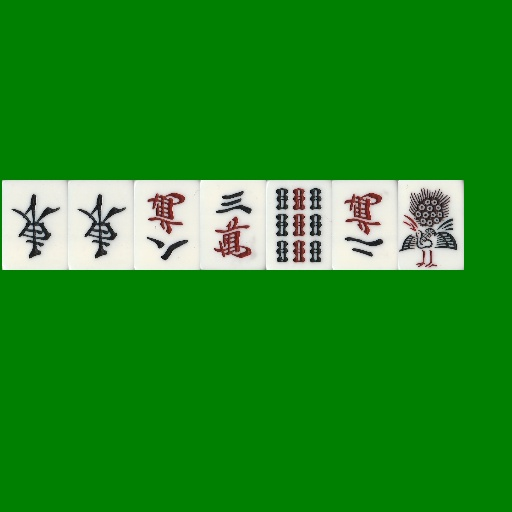1s: (398, 180, 464, 270)
2m: (332, 180, 398, 270)
3m: (200, 180, 266, 270)
8m: (134, 180, 200, 270)
9s: (266, 180, 332, 270)
east: (2, 180, 68, 270), (68, 180, 134, 270)
